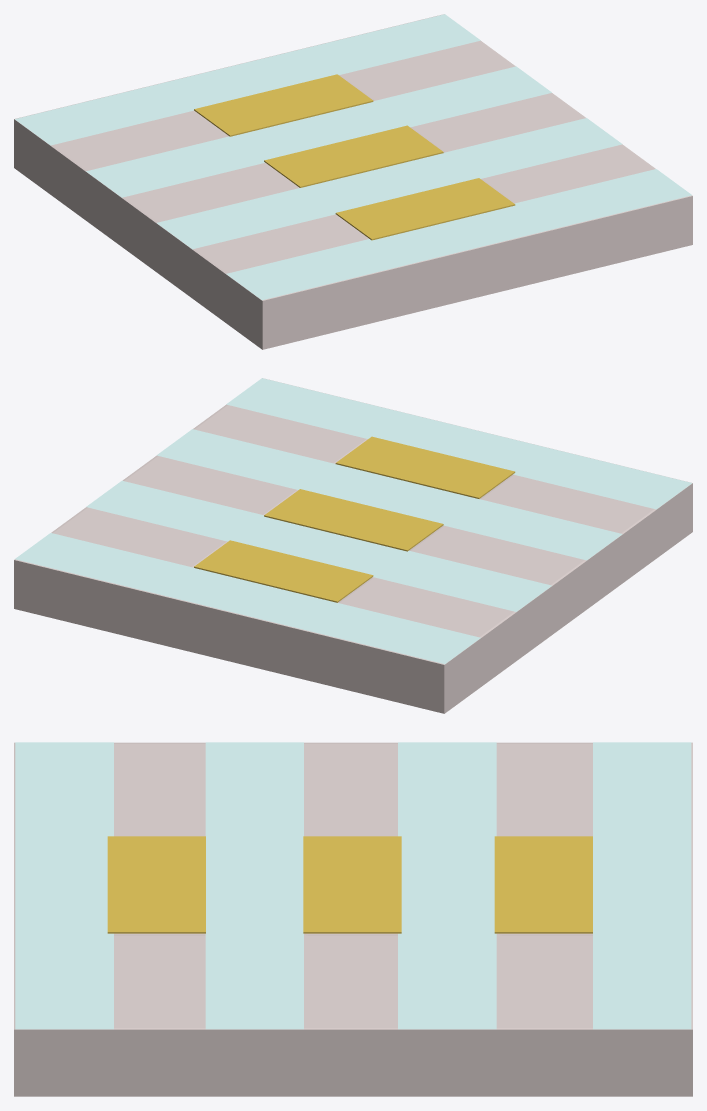
Rendered from 人行道2.fbx.
The picture shows the model from 3 angles, top to bottom: view 1: azimuth 30°, elevation 25°; view 2: azimuth 150°, elevation 25°; view 3: azimuth 270°, elevation 25°; orthographic projection. The views are drawn at different scales.
Parts seen in each view (by area): view 1: Cube, 平面, 平面.001, 平面.004, 平面.005, 平面.006, 平面.007, 平面.002, 平面.003, 平面.011, 平面.010, 平面.008; view 2: Cube, 平面, 平面.001, 平面.004, 平面.005, 平面.002, 平面.003, 平面.006, 平面.007, 平面.008, 平面.010, 平面.011; view 3: Cube, 平面, 平面.001, 平面.005, 平面.004, 平面.003, 平面.002, 平面.007, 平面.006, 平面.008, 平面.010, 平面.011.
Boxes of the visible parts, x1,y1,x2,y2 form: Cube: (14, 14, 692, 349); 平面: (15, 66, 263, 145); 平面.001: (230, 14, 480, 91); 平面.004: (157, 170, 405, 249); 平面.005: (372, 118, 622, 195); 平面.006: (226, 223, 476, 300); 平面.007: (444, 169, 691, 247); 平面.002: (86, 119, 333, 197); 平面.003: (302, 66, 551, 143); 平面.011: (335, 178, 515, 240); 平面.010: (264, 125, 443, 187); 平面.008: (194, 74, 373, 136); Cube: (14, 378, 692, 713); 平面: (230, 585, 480, 663); 平面.001: (15, 533, 265, 611); 平面.004: (373, 481, 622, 560); 平面.005: (156, 429, 406, 506); 平面.002: (303, 534, 551, 611); 平面.003: (86, 480, 335, 557); 平面.006: (445, 430, 691, 509); 平面.007: (226, 378, 476, 454); 平面.008: (194, 540, 373, 602); 平面.010: (264, 489, 443, 551); 平面.011: (335, 436, 515, 498); Cube: (14, 742, 692, 1096); 平面: (593, 742, 691, 885); 平面.001: (593, 886, 691, 1029); 平面.005: (205, 886, 303, 1029); 平面.004: (205, 742, 303, 885); 平面.003: (398, 886, 496, 1029); 平面.002: (398, 742, 496, 885); 平面.007: (15, 886, 113, 1029); 平面.006: (15, 742, 113, 885); 平面.008: (494, 836, 592, 933); 平面.010: (303, 836, 401, 933); 平面.011: (107, 836, 205, 933).
Size of the model in its own units: 400 by 44.88 by 400.
